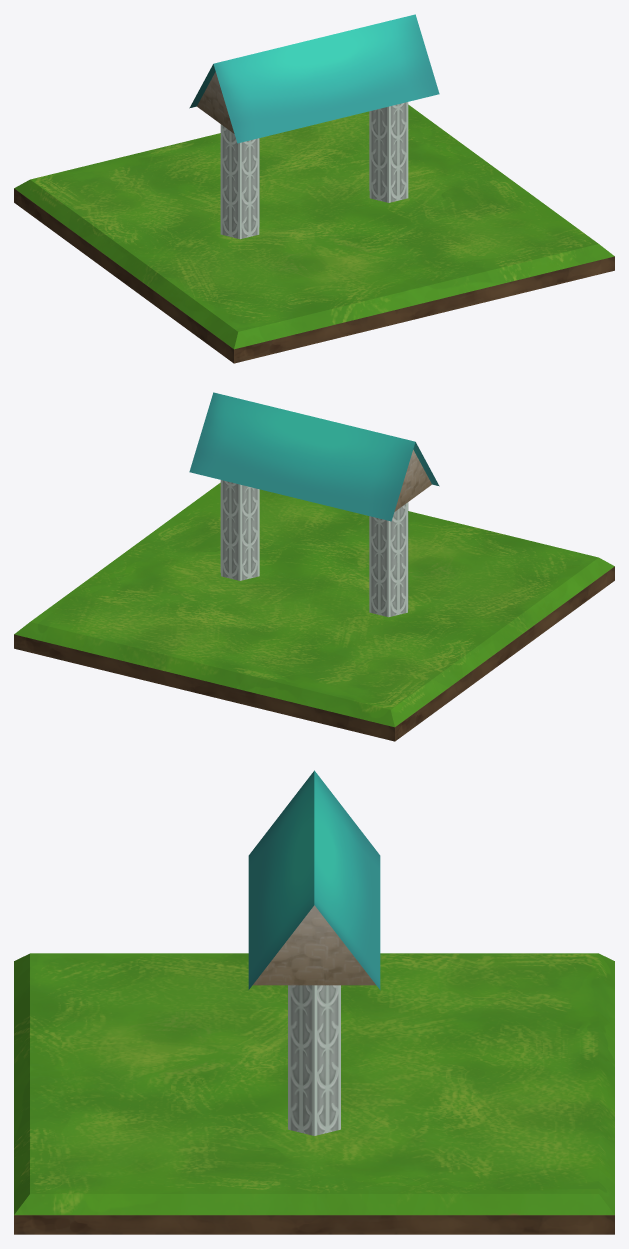
File: Gate.fbx
3 renders of one model, top to bottom at view 1: azimuth 30°, elevation 25°; view 2: azimuth 150°, elevation 25°; view 3: azimuth 270°, elevation 25°, orthographic. The views are drawn at different scales.
Visible parts, largest first — view 1: Gate; view 2: Gate; view 3: Gate.
Part boxes in pixels (x1,y1,x2,y2): Gate: (14,14,614,363); Gate: (14,392,614,741); Gate: (14,770,614,1234).
Size of the model in its own units: 51.25 by 25.4 by 51.25.
Materials: 2 (2 with a texture image).
